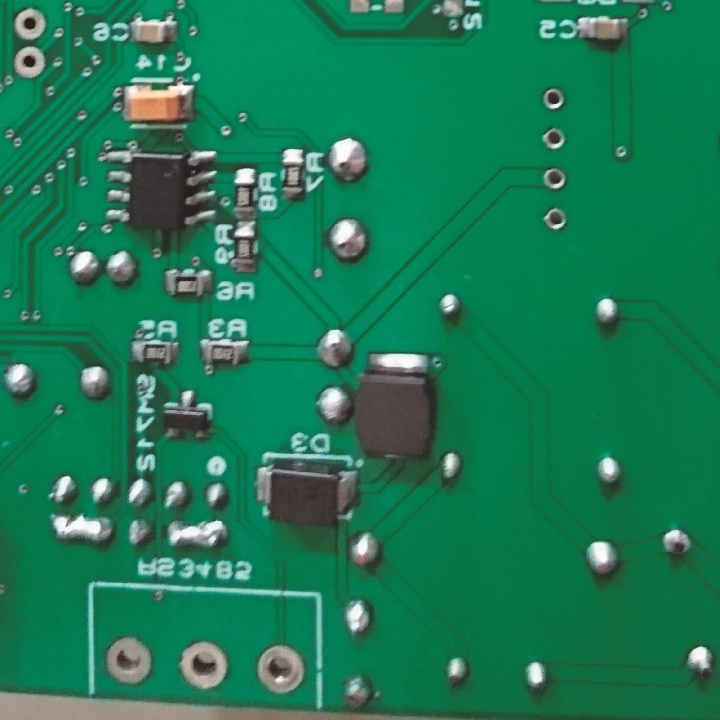F: (254, 641, 306, 699), (175, 638, 228, 692), (105, 635, 156, 689), (11, 43, 51, 81), (12, 7, 50, 43), (540, 202, 567, 235), (540, 163, 568, 192), (541, 123, 567, 152), (541, 84, 566, 113)
P: (163, 519, 233, 554), (47, 511, 116, 546)
